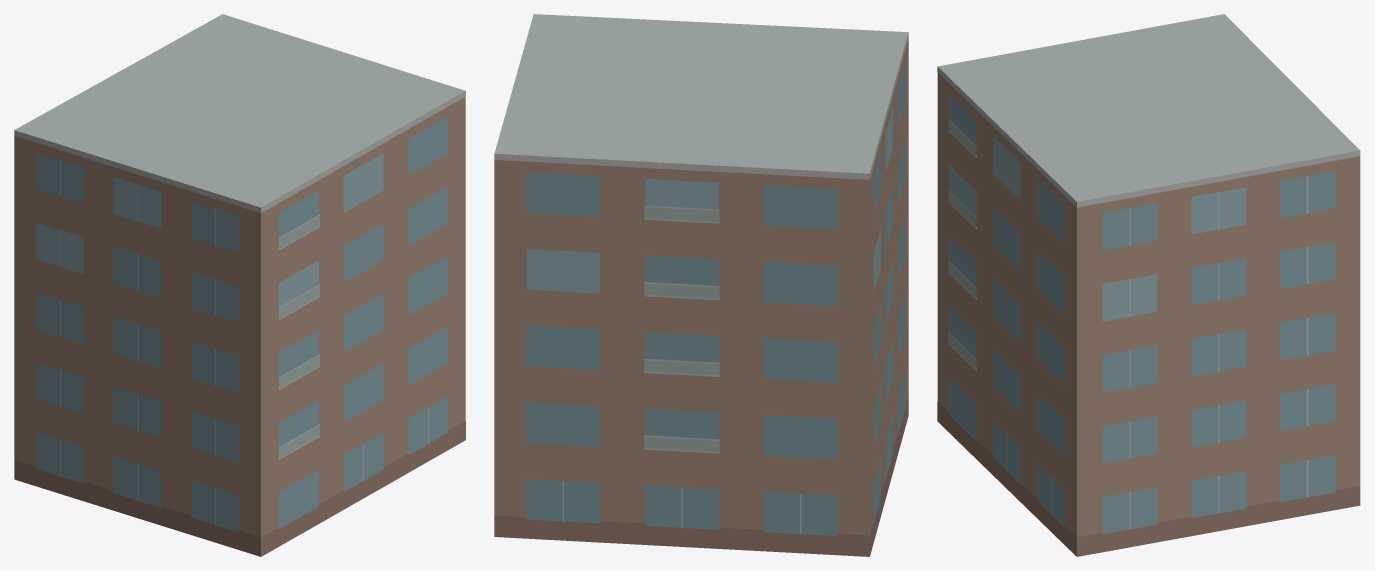
File: survey-upis-32993310.glb
The picture shows the model from 3 angles, left to right: view 1: azimuth 30°, elevation 25°; view 2: azimuth 150°, elevation 25°; view 3: azimuth 270°, elevation 25°; orthographic projection. The views are drawn at different scales.
Visible parts, largest first — view 1: survey-upis-32993310.tmp; view 2: survey-upis-32993310.tmp; view 3: survey-upis-32993310.tmp.
Part boxes in pixels (bbox=[...]): survey-upis-32993310.tmp: bbox=[14, 14, 465, 556]; survey-upis-32993310.tmp: bbox=[494, 14, 908, 556]; survey-upis-32993310.tmp: bbox=[937, 14, 1360, 556].
Bounding box in the file's own units: 17.27 × 15.2 × 16.42.
